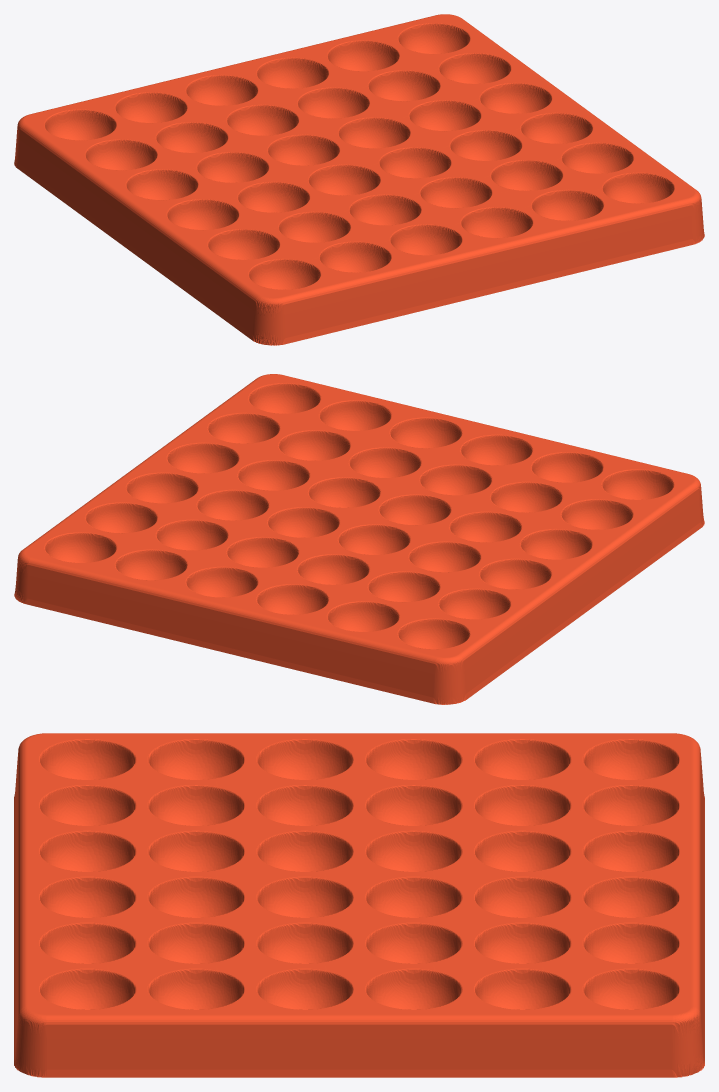
Rendered from mold.glb.
The picture shows the model from 3 angles, top to bottom: view 1: azimuth 30°, elevation 25°; view 2: azimuth 150°, elevation 25°; view 3: azimuth 270°, elevation 25°; orthographic projection. The views are drawn at different scales.
Visible parts, largest first — view 1: geometry_0; view 2: geometry_0; view 3: geometry_0.
Boxes of the visible parts, left/top/right/bottom form: geometry_0: left=14, top=14, right=704, bottom=345; geometry_0: left=14, top=374, right=704, bottom=704; geometry_0: left=14, top=733, right=704, bottom=1077.
Size of the model in its own units: 0.1877 by 0.0172 by 0.1877.
